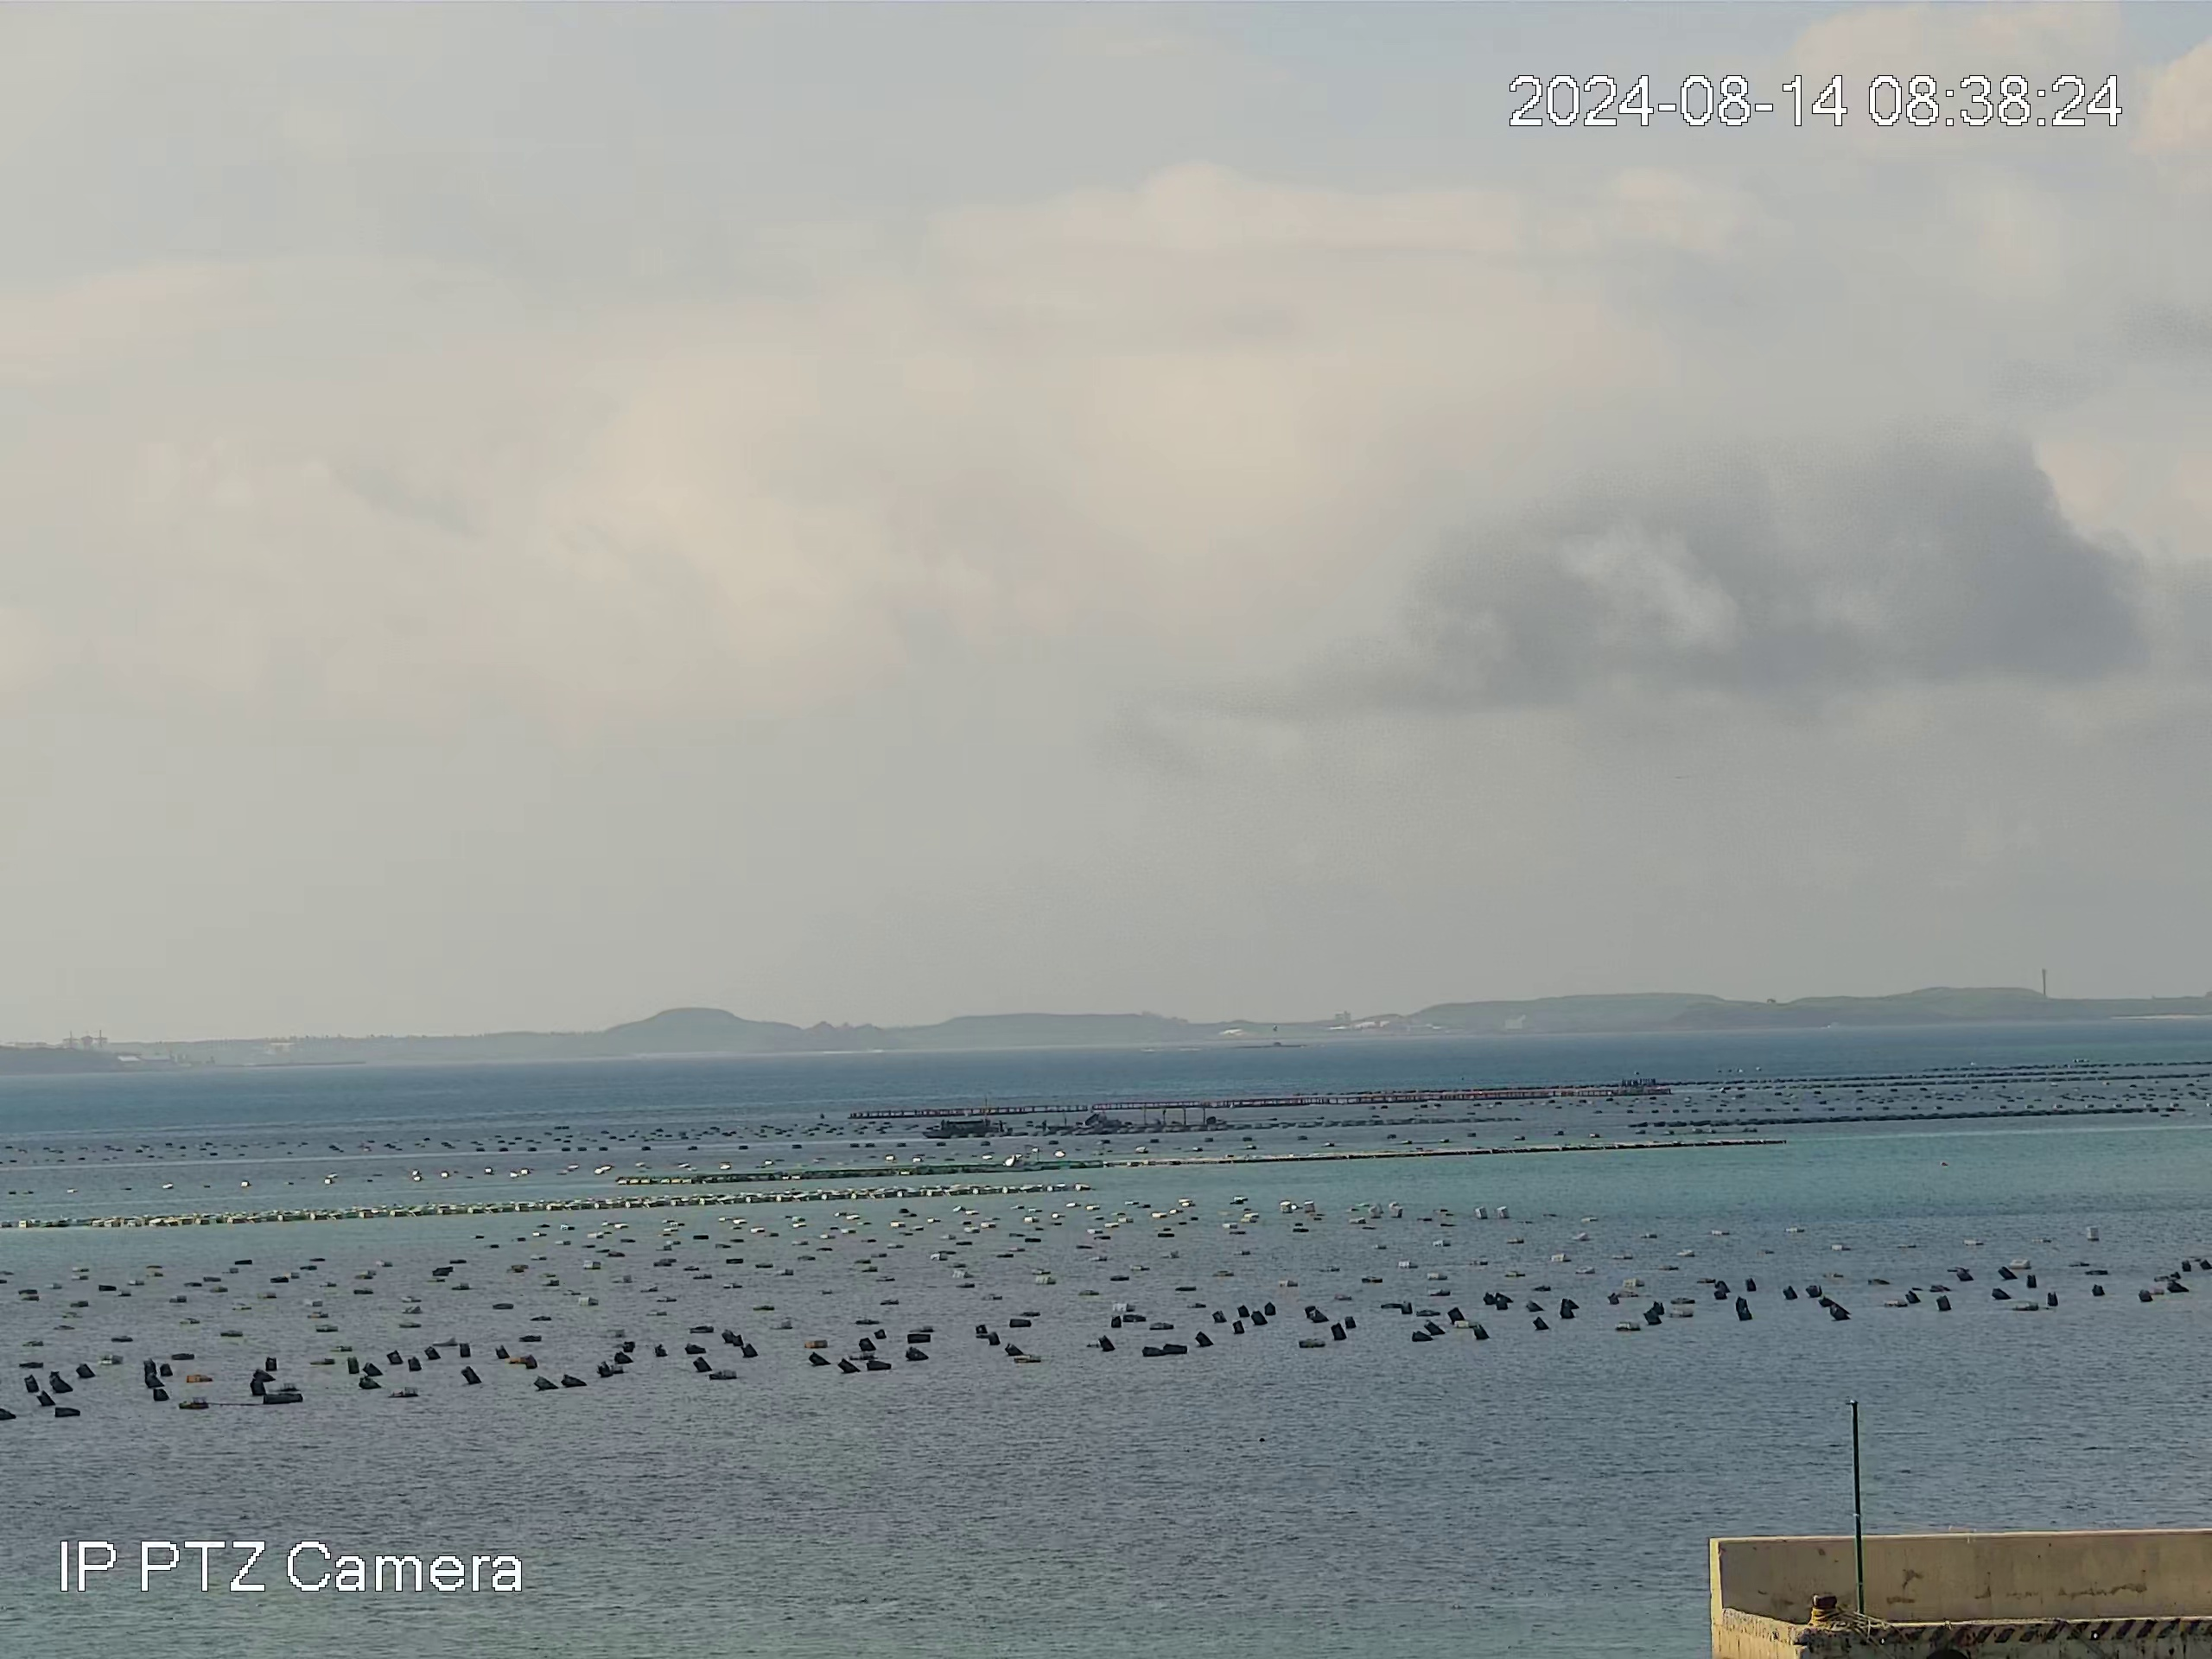boat: (921, 1117, 995, 1138)
